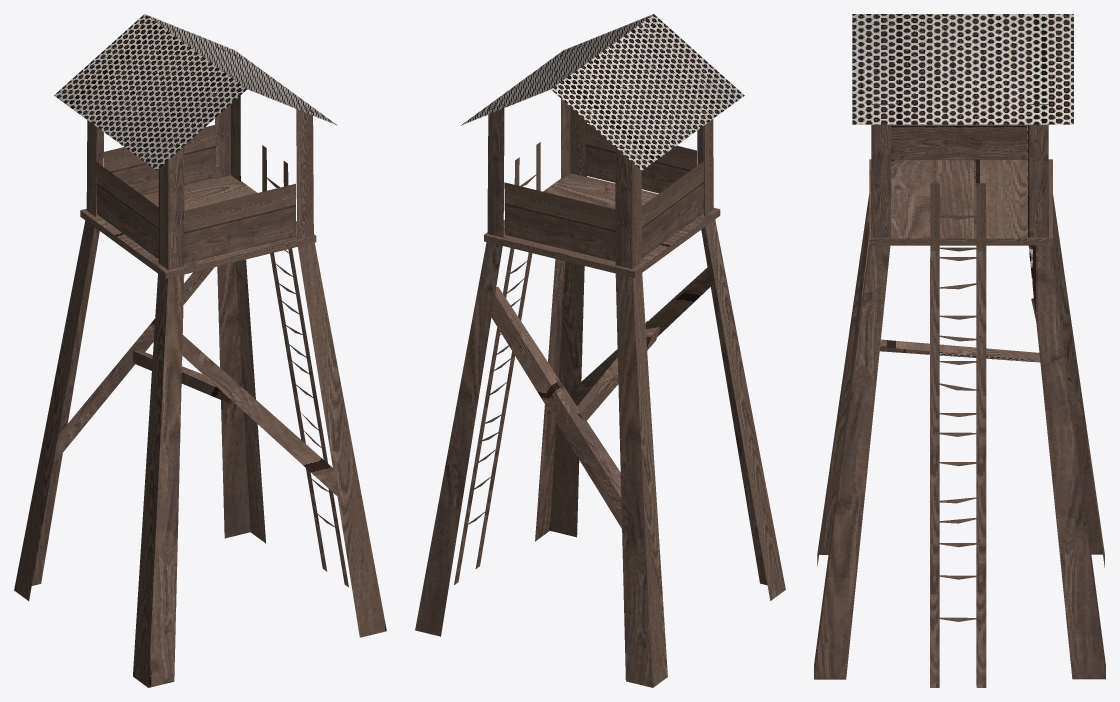
File: JaktTaarn.glb
3 views of the same model, side by side, from view 1: azimuth 30°, elevation 25°; view 2: azimuth 150°, elevation 25°; view 3: azimuth 270°, elevation 25° (orthographic). The views are drawn at different scales.
Visible parts, largest first — view 1: Cube; view 2: Cube; view 3: Cube.
Part boxes in pixels (left/top/right/bottom): Cube: left=14, top=14, right=386, bottom=687; Cube: left=415, top=14, right=785, bottom=687; Cube: left=814, top=14, right=1105, bottom=687.
Size of the model in its own units: 11.58 by 24.35 by 10.71.
Materials: 1 (1 with a texture image).
